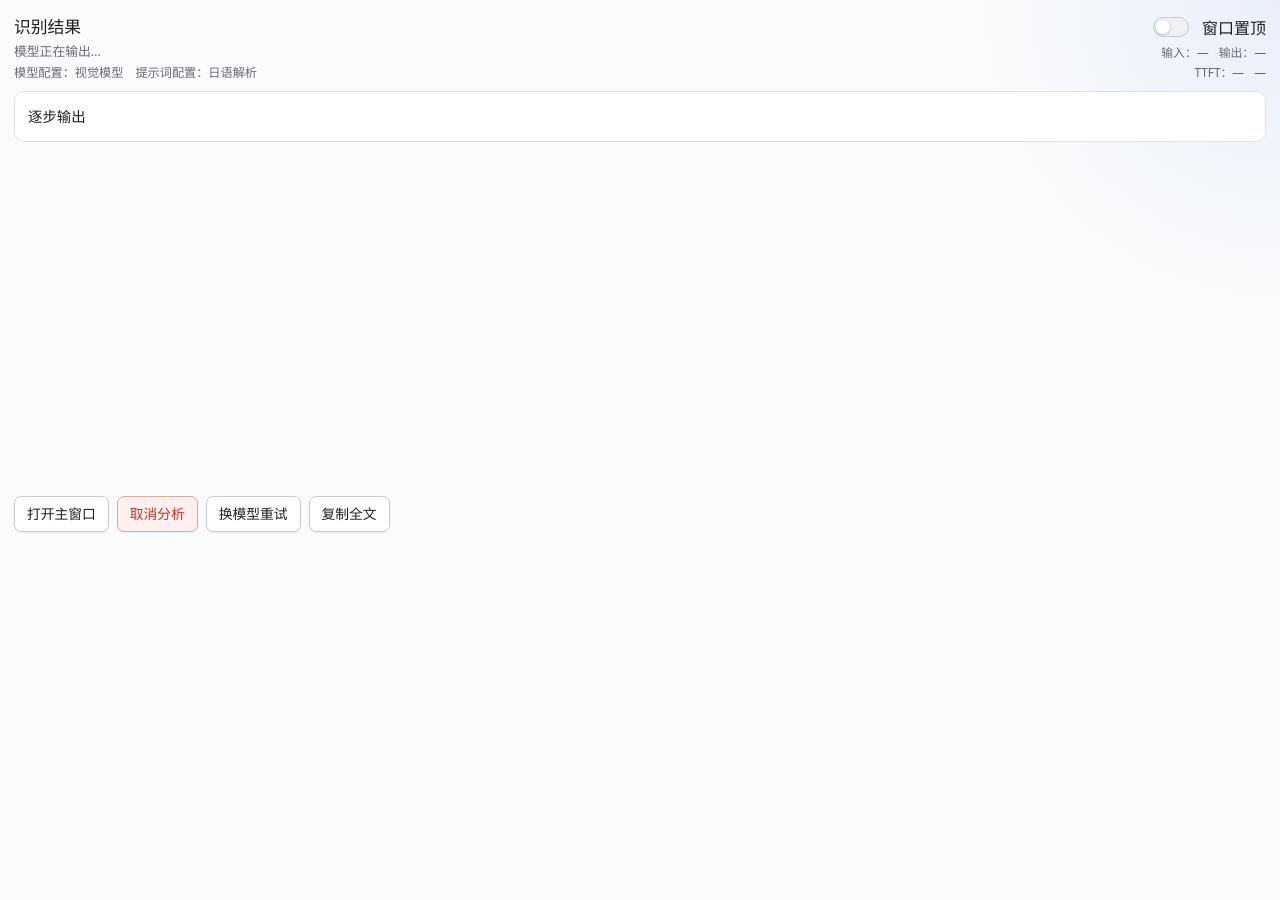
Result › clears an open native chooser when the result unmounts
Step 1. Click the button "换模型重试" → (253, 514), box [206, 496, 301, 532]
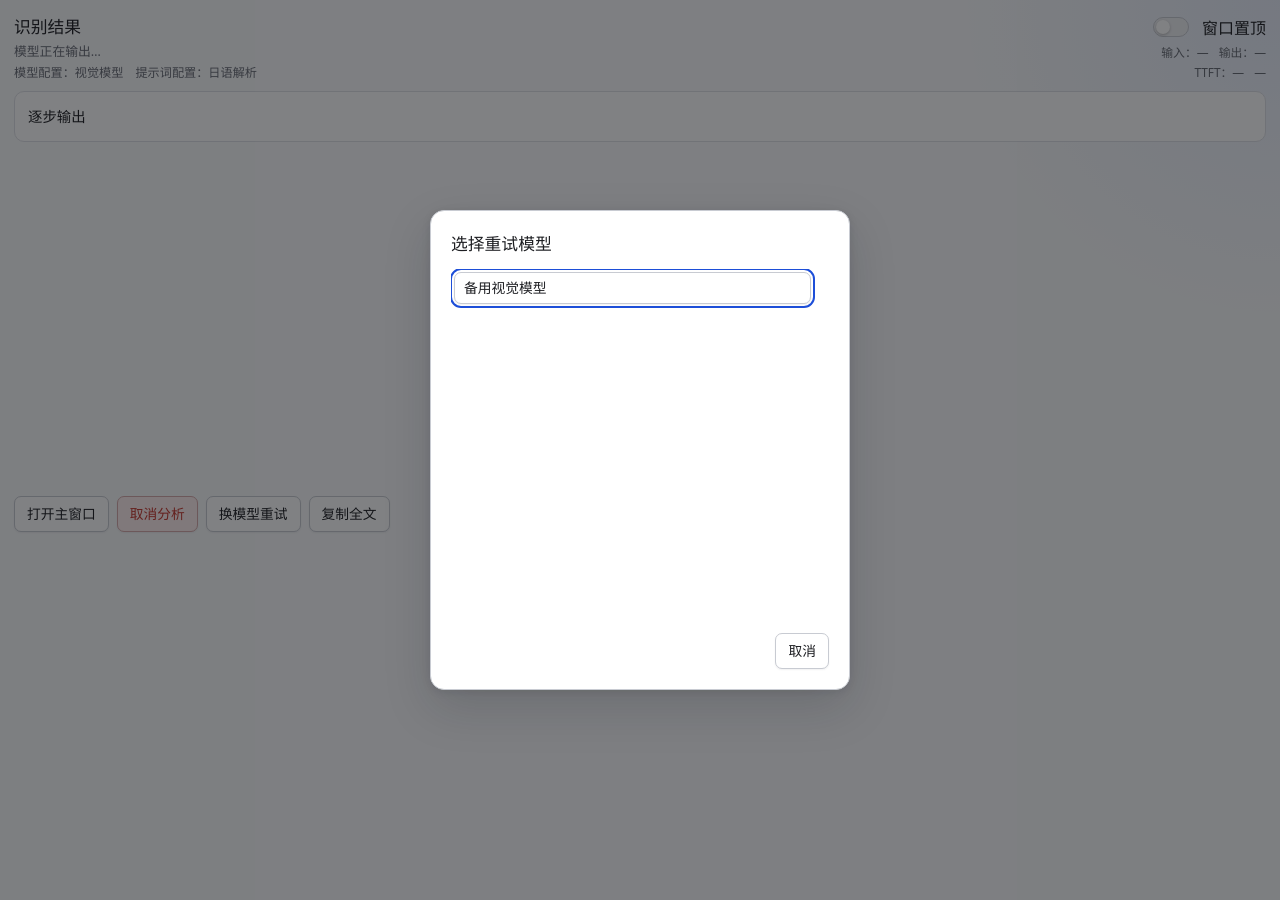
Check: the button "备用视觉模型" is shown, box [454, 272, 811, 304]
